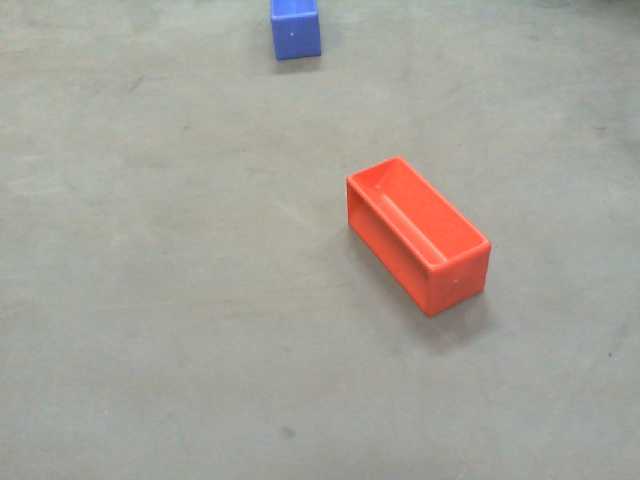BlueSample: (269, 1, 322, 67)
RedSample: (343, 152, 497, 326)
